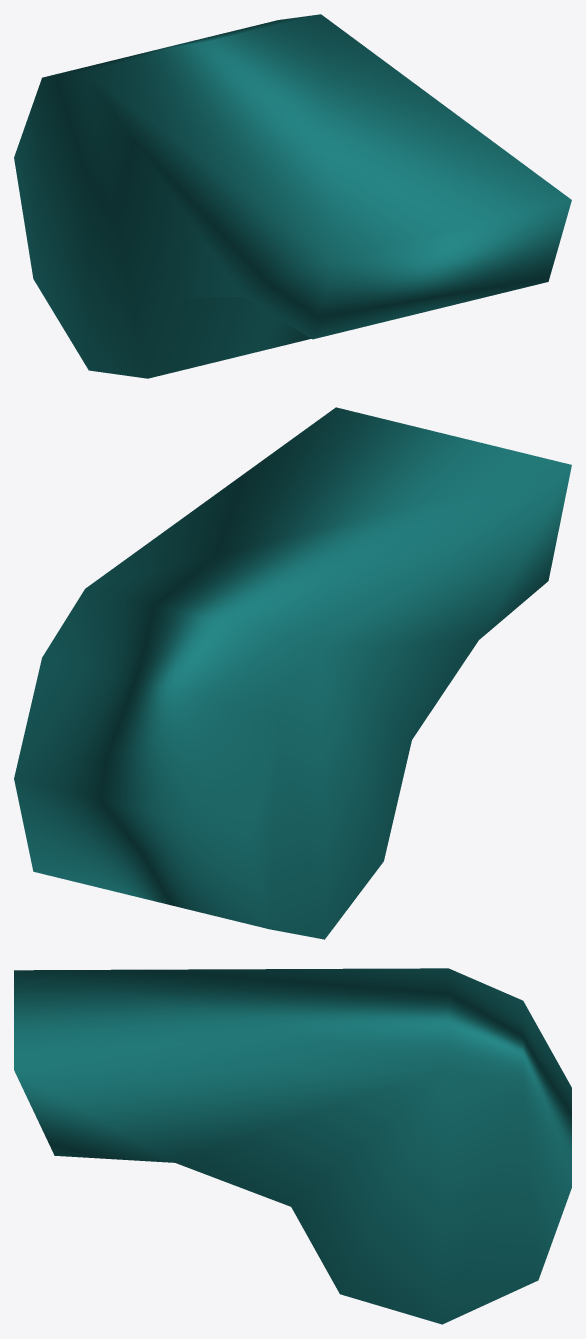
The model's file is whistle_collider.fbx.
3 views of the same model, one above another, from view 1: azimuth 30°, elevation 25°; view 2: azimuth 150°, elevation 25°; view 3: azimuth 270°, elevation 25° (orthographic). The views are drawn at different scales.
Visible parts, largest first — view 1: whistle_collider; view 2: whistle_collider; view 3: whistle_collider.
Part boxes in pixels (x1,y1,x2,y2): whistle_collider: [14, 14, 571, 378]; whistle_collider: [14, 407, 571, 939]; whistle_collider: [14, 968, 571, 1324].
Bounding box in the file's own units: 2.74 × 3.29 × 6.48.
